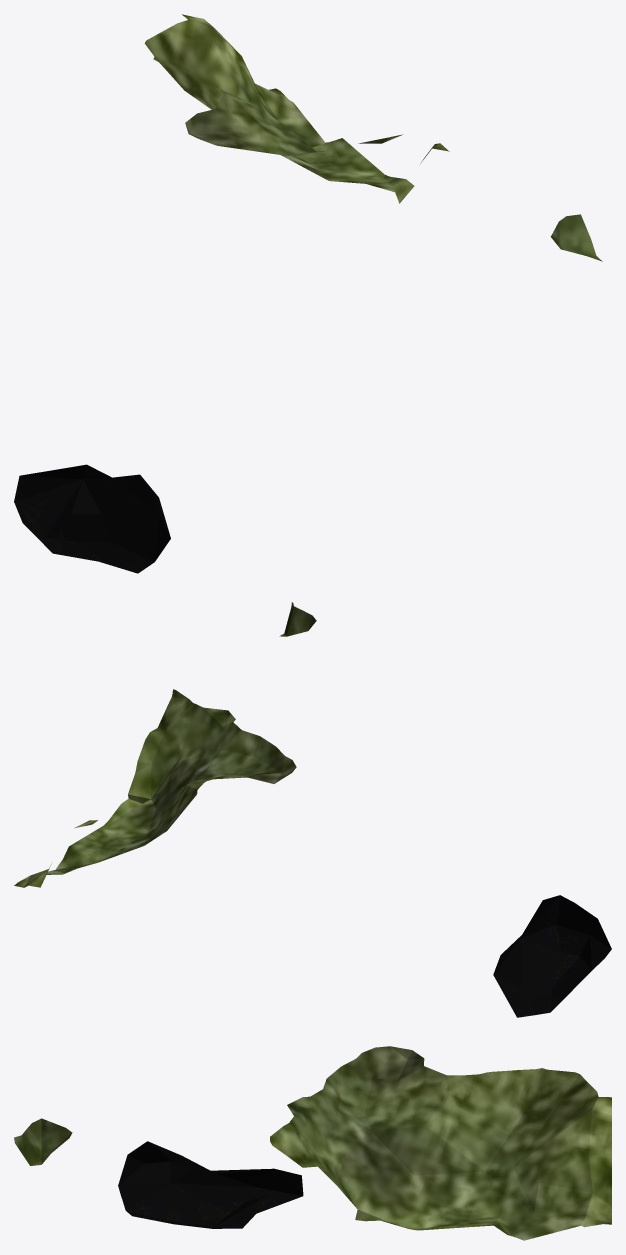
The picture shows the model from 3 angles, top to bottom: view 1: azimuth 30°, elevation 25°; view 2: azimuth 150°, elevation 25°; view 3: azimuth 270°, elevation 25°; orthographic projection. The views are drawn at different scales.
Size of the model in its own units: 1.72 by 1.06 by 2.15.
1 material, 1 textured.
